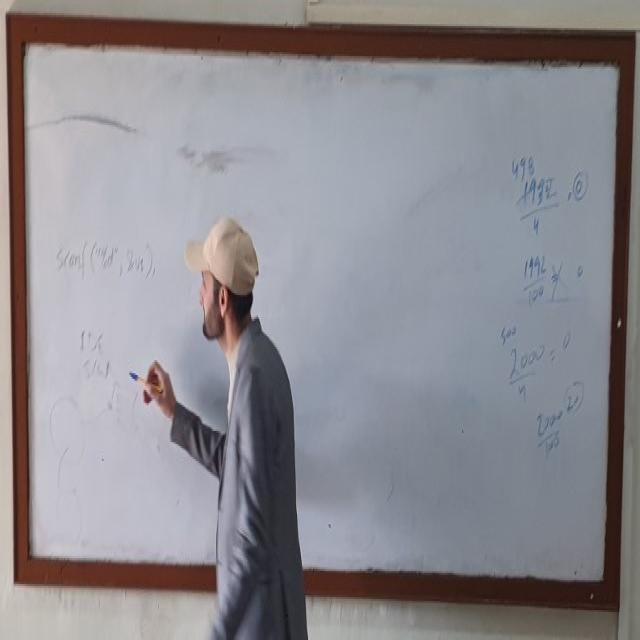Instructor: (170, 198, 324, 640)
White-board: (18, 31, 625, 594)
